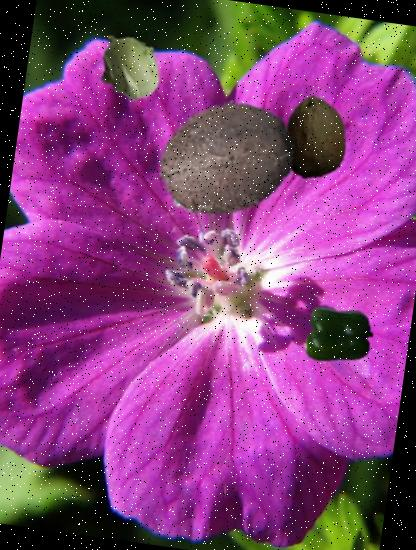Cocos: (146, 80, 305, 239)
Kohlrabi: (86, 24, 172, 109)
Papaya: (268, 90, 362, 185)
Pepper: (302, 296, 378, 372)
